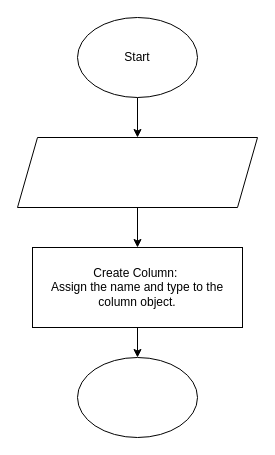
This 275x455 diagram has some shape labels left out. The shapes that lost their labels are listed below. From the top down, each one's box as (x1, y1, x2, y2) in pixels, then its label:
(16, 136, 258, 208): Input Column name and Column type
(76, 356, 198, 438): End
